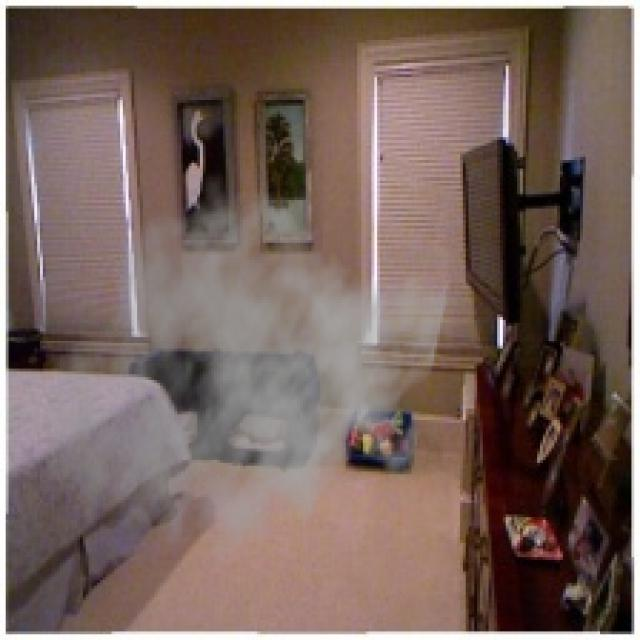smoke: (37, 168, 452, 588)
